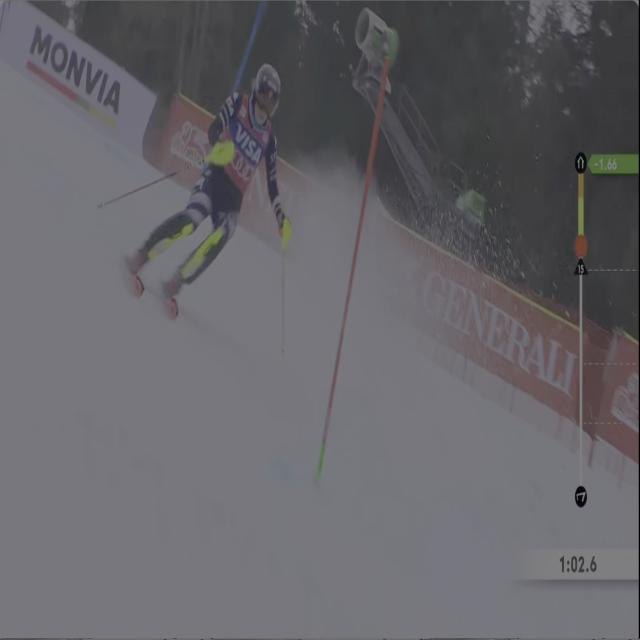gate: (302, 60, 393, 538)
